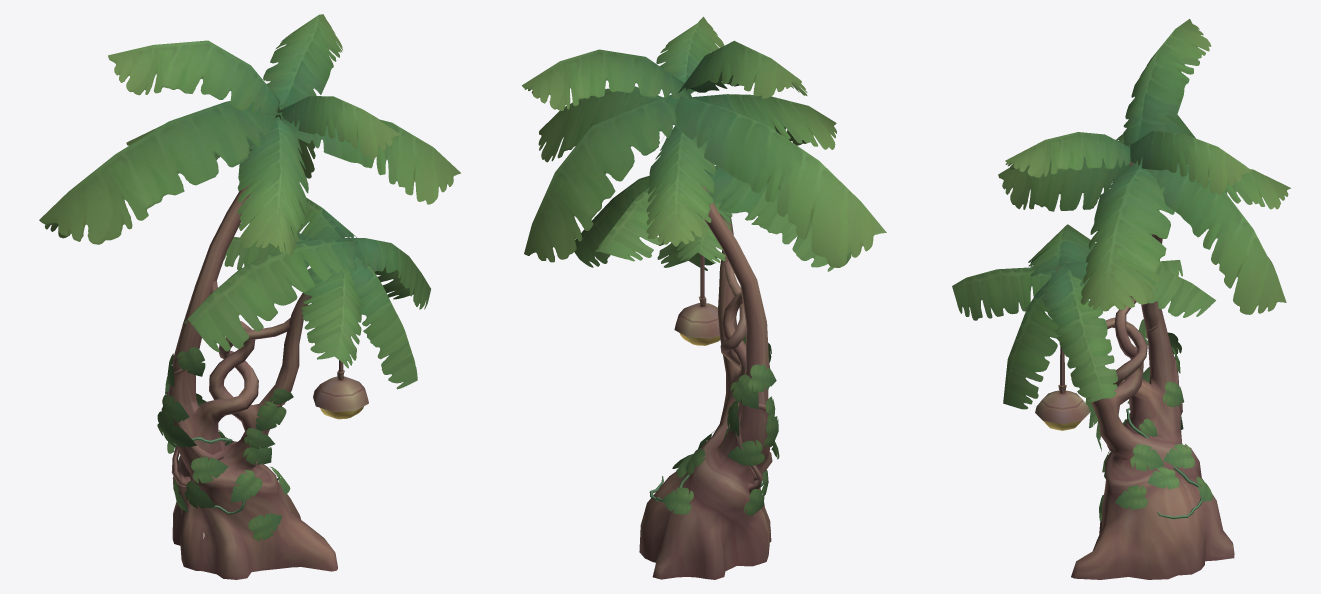
Rendered from zw_kmd_012_sm.FBX.
3 views of the same model, side by side, from view 1: azimuth 30°, elevation 25°; view 2: azimuth 150°, elevation 25°; view 3: azimuth 270°, elevation 25° (orthographic). The views are drawn at different scales.
Visible parts, largest first — view 1: zw_kmd_012_sm; view 2: zw_kmd_012_sm; view 3: zw_kmd_012_sm.
Part boxes in pixels (x1,y1,x2,y2): zw_kmd_012_sm: [39, 14, 460, 579]; zw_kmd_012_sm: [522, 16, 886, 579]; zw_kmd_012_sm: [952, 19, 1290, 579].
Bounding box in the file's own units: 6.11 × 7.15 × 4.89.
Materials: 1 (1 with a texture image).
